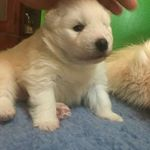puppy: (1, 16, 126, 131)
